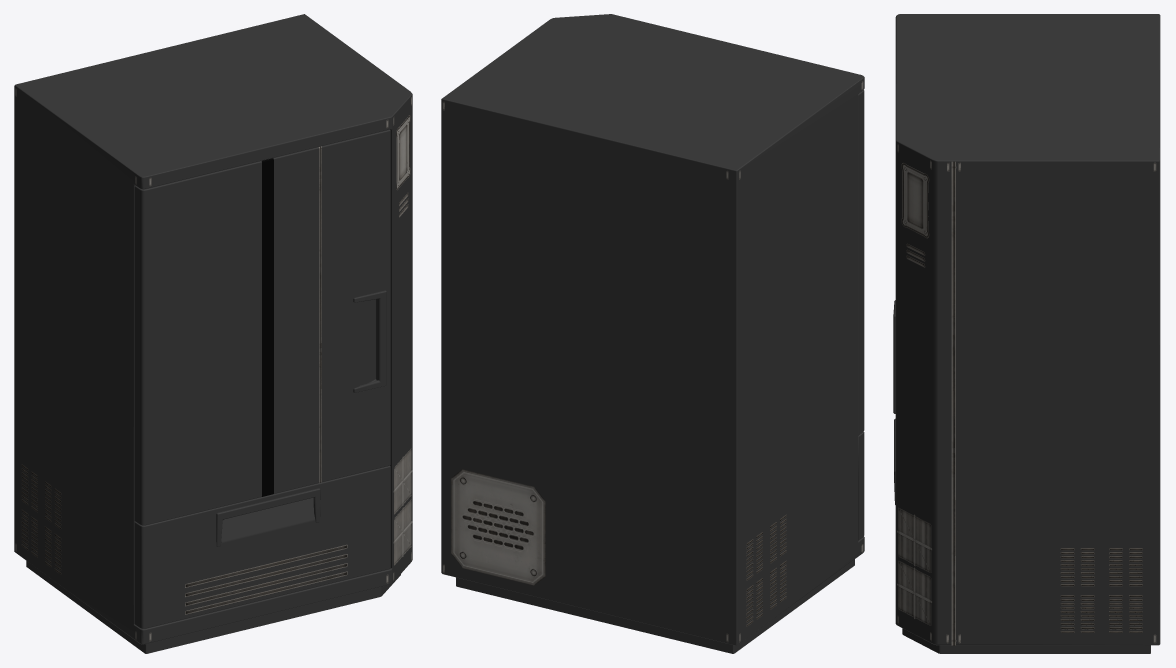
File: SM_Refrigerator_01.FBX
3 views of the same model, side by side, from view 1: azimuth 30°, elevation 25°; view 2: azimuth 150°, elevation 25°; view 3: azimuth 270°, elevation 25° (orthographic). The views are drawn at different scales.
Parts seen in each view (by area): view 1: SM_Refrigerator_01_LOD0; view 2: SM_Refrigerator_01_LOD0; view 3: SM_Refrigerator_01_LOD0.
Boxes of the visible parts, x1=… form: SM_Refrigerator_01_LOD0: x1=14, y1=14, x2=412, y2=653; SM_Refrigerator_01_LOD0: x1=441, y1=14, x2=864, y2=653; SM_Refrigerator_01_LOD0: x1=893, y1=14, x2=1160, y2=653.
Size of what is drawn, in the model's own units: 141 by 108 by 220.
